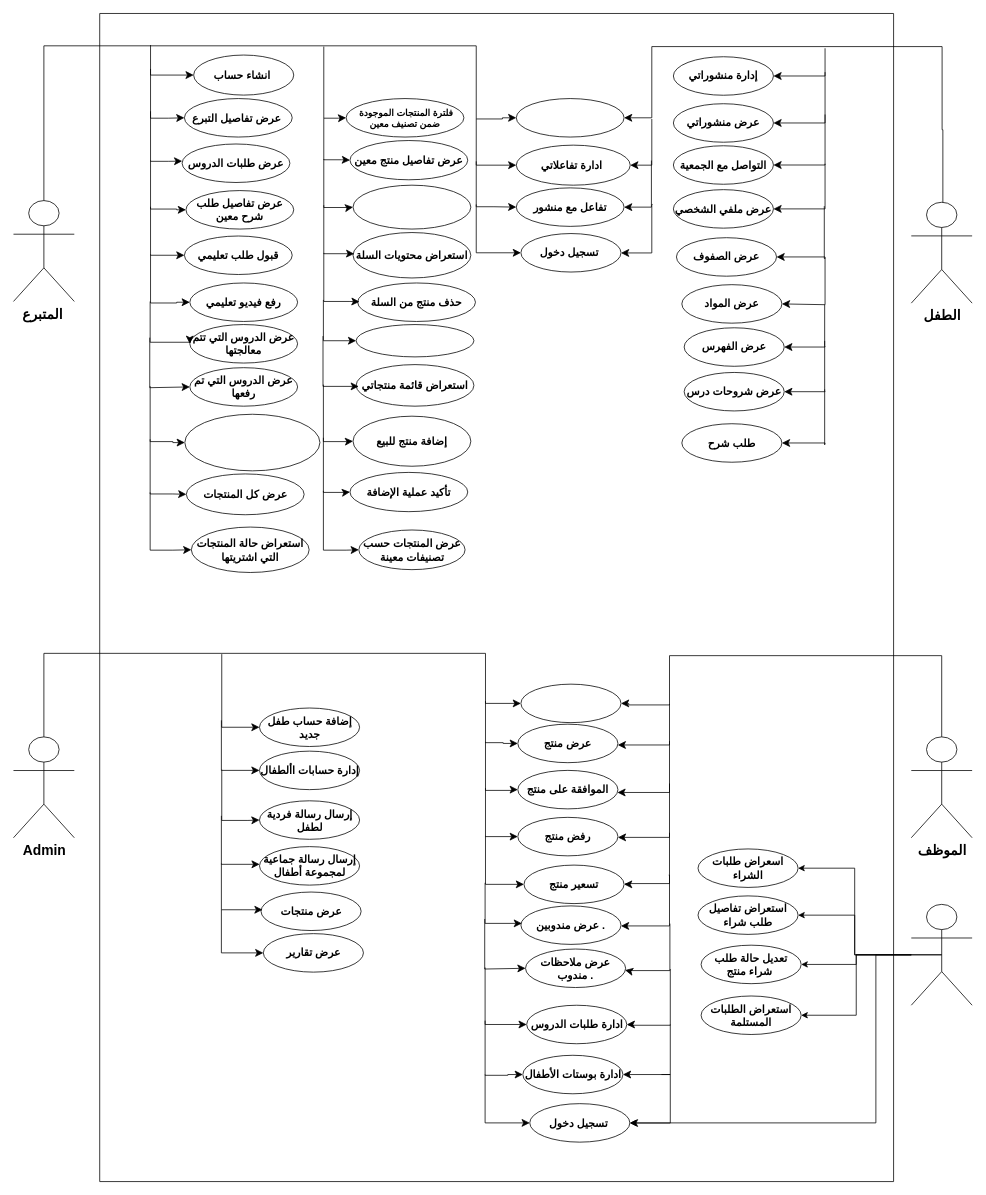
The diagram is 986 pixels wide and 1195 high, and some of its shapes have lost their labels. The shapes that lost their labels are listed below. From the top down, each one's centre as x and y in pixels, then its label:
the point at 570,117: عرض منشورات الاطفال
the point at 411,206: إضافة منتج إلى السلة
the point at 414,340: تأكيد عملية الشراء
the point at 252,442: تأكيد الحساب عن طريق إدخال الـكود المرسل الى ايميل المستخدم
the point at 570,703: إدارة مندوب
the point at 941,954: المندوب
